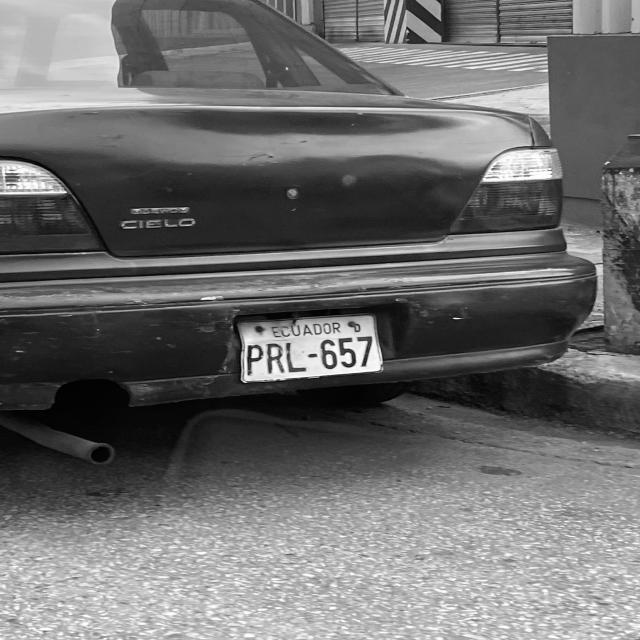Placa: (238, 315, 382, 382)
